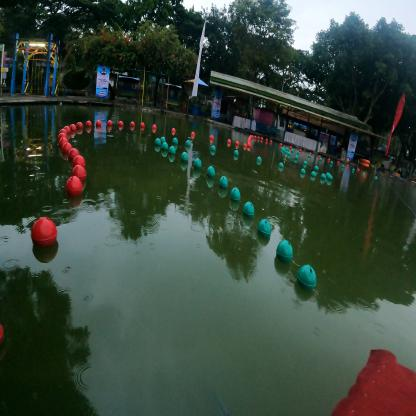green_buoy: (296, 264, 316, 292), (276, 239, 293, 265), (258, 218, 272, 238), (242, 201, 255, 218), (230, 188, 241, 202), (206, 165, 216, 179), (219, 175, 228, 190), (194, 158, 202, 170), (181, 152, 188, 163), (172, 136, 179, 146), (169, 146, 176, 156), (162, 142, 168, 152), (155, 138, 161, 147), (185, 139, 191, 148), (300, 167, 306, 176), (160, 136, 166, 144), (320, 173, 326, 181), (210, 145, 216, 152), (233, 150, 239, 157), (256, 156, 262, 163), (278, 161, 284, 168), (311, 171, 316, 178)
red_buoy: (32, 217, 57, 251), (66, 176, 82, 200), (72, 165, 86, 184), (71, 154, 85, 172), (68, 150, 79, 164), (58, 138, 69, 150), (63, 143, 72, 157), (59, 128, 68, 138), (58, 132, 67, 141), (63, 126, 71, 134), (76, 122, 84, 129), (95, 119, 102, 126), (70, 124, 76, 132), (86, 120, 92, 127), (107, 120, 113, 126), (130, 121, 135, 127), (140, 122, 145, 128), (235, 140, 240, 146), (119, 121, 124, 126), (152, 124, 157, 129), (191, 131, 195, 137), (210, 134, 214, 140), (171, 128, 176, 132), (227, 139, 231, 144), (243, 143, 247, 148)
